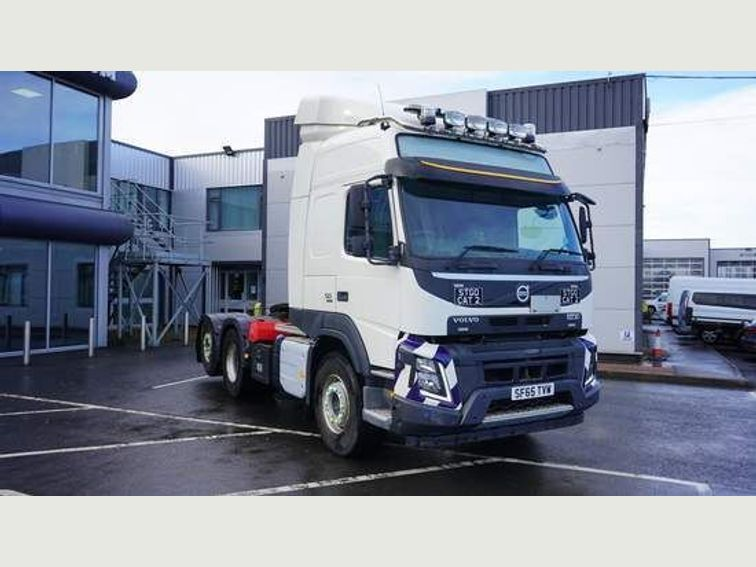Semi: (193, 95, 604, 454)
